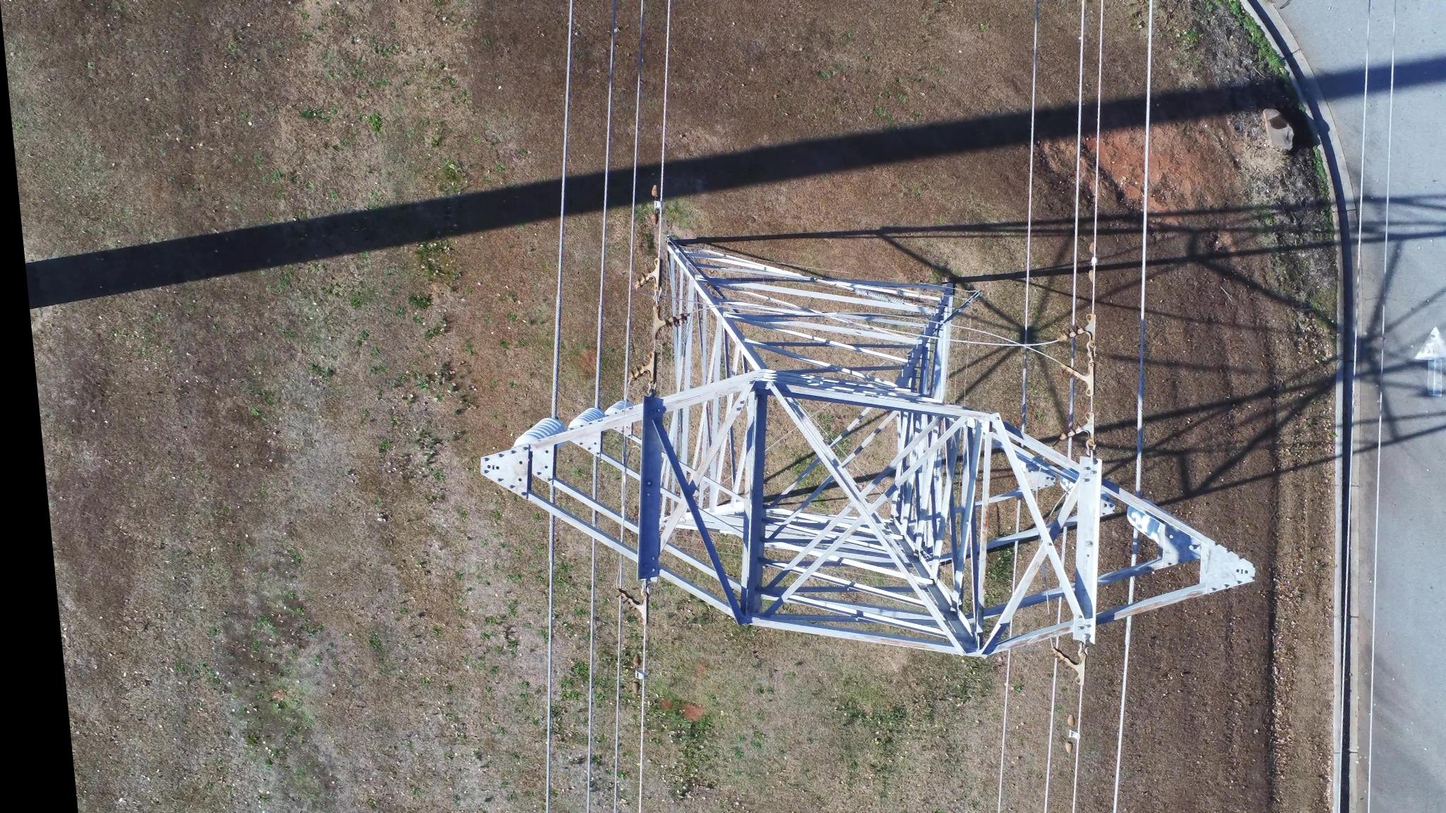tower: (458, 239, 1272, 664)
